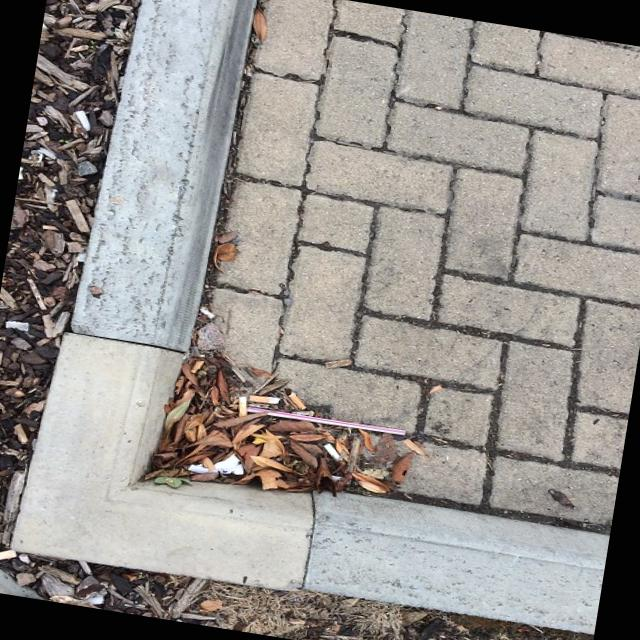Trash: (243, 401, 408, 440)
